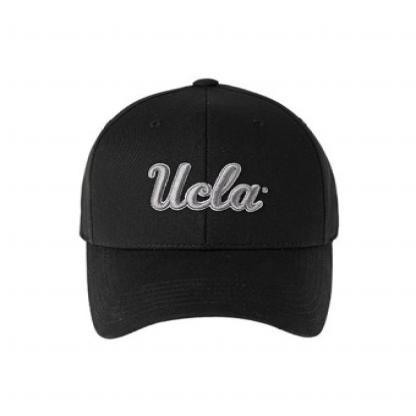cap: (62, 73, 350, 353)
